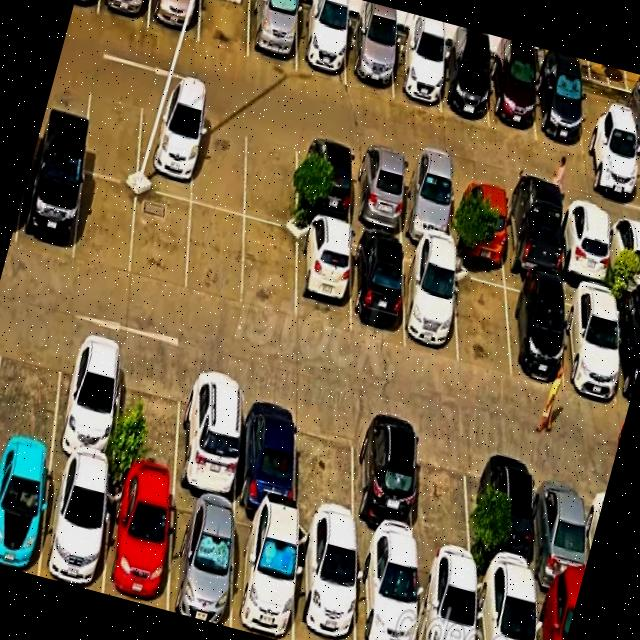empty: (113, 349, 183, 489), (0, 318, 64, 453), (295, 399, 355, 537), (417, 428, 472, 569), (73, 172, 137, 275), (83, 77, 143, 184), (130, 188, 191, 293), (454, 262, 510, 376), (186, 203, 244, 305), (191, 108, 246, 215), (244, 121, 297, 230), (241, 219, 295, 320), (577, 80, 629, 167), (198, 0, 249, 57)
occupied: (51, 331, 123, 471), (39, 457, 109, 593), (104, 475, 172, 610), (176, 366, 242, 505), (167, 491, 234, 627), (230, 509, 296, 640), (235, 382, 298, 518), (356, 414, 417, 553), (15, 153, 83, 261), (294, 524, 355, 640), (484, 445, 535, 583), (536, 458, 588, 593), (136, 92, 198, 201), (561, 284, 618, 401), (0, 445, 51, 575), (505, 274, 563, 384), (403, 246, 457, 361), (350, 232, 405, 344), (296, 219, 350, 332), (357, 543, 416, 640), (504, 187, 559, 281), (417, 555, 475, 640), (298, 135, 351, 227), (453, 174, 505, 265), (352, 148, 403, 238), (401, 160, 452, 249), (560, 200, 610, 289), (535, 66, 583, 154), (296, 3, 347, 85), (477, 570, 535, 640), (439, 46, 488, 126), (489, 55, 535, 140), (392, 33, 440, 112), (248, 0, 297, 72), (345, 21, 392, 96), (614, 296, 640, 409), (609, 211, 640, 296), (535, 583, 578, 640), (148, 0, 200, 42), (620, 91, 640, 170), (97, 0, 150, 28)
